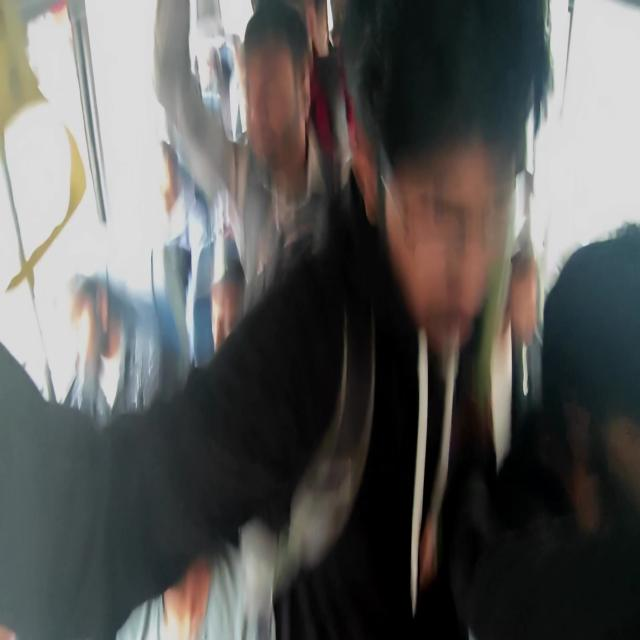person: (350, 29, 525, 331), (555, 248, 640, 499), (142, 402, 238, 585), (243, 32, 309, 170), (496, 236, 540, 354), (53, 274, 107, 366), (209, 271, 252, 359), (149, 147, 191, 229), (286, 0, 336, 56), (198, 50, 220, 110)
